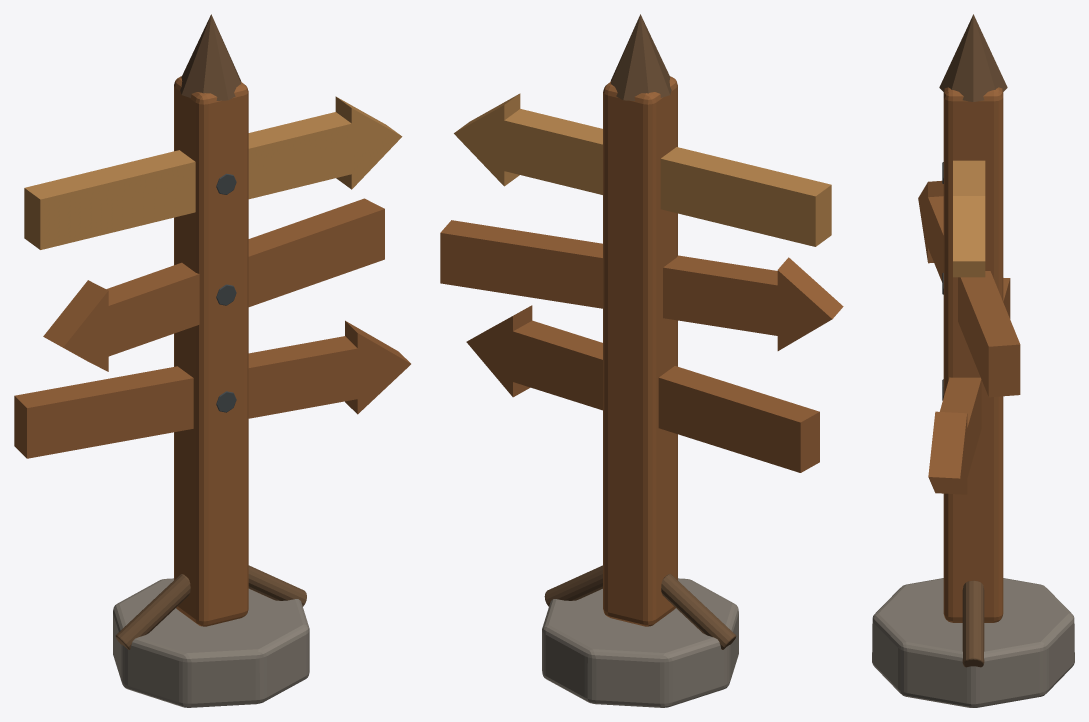
3 views of the same model, side by side, from view 1: azimuth 30°, elevation 25°; view 2: azimuth 150°, elevation 25°; view 3: azimuth 270°, elevation 25° (orthographic).
Parts seen in each view (by area): view 1: WK_DirectionalSignpost_LOD0_High; view 2: WK_DirectionalSignpost_LOD0_High; view 3: WK_DirectionalSignpost_LOD0_High.
Boxes of the visible parts, x1=… form: WK_DirectionalSignpost_LOD0_High: x1=14, y1=14, x2=410, y2=707; WK_DirectionalSignpost_LOD0_High: x1=440, y1=14, x2=843, y2=707; WK_DirectionalSignpost_LOD0_High: x1=872, y1=14, x2=1074, y2=707.
Size of the model in its own units: 1.96 by 3.37 by 0.9476.
